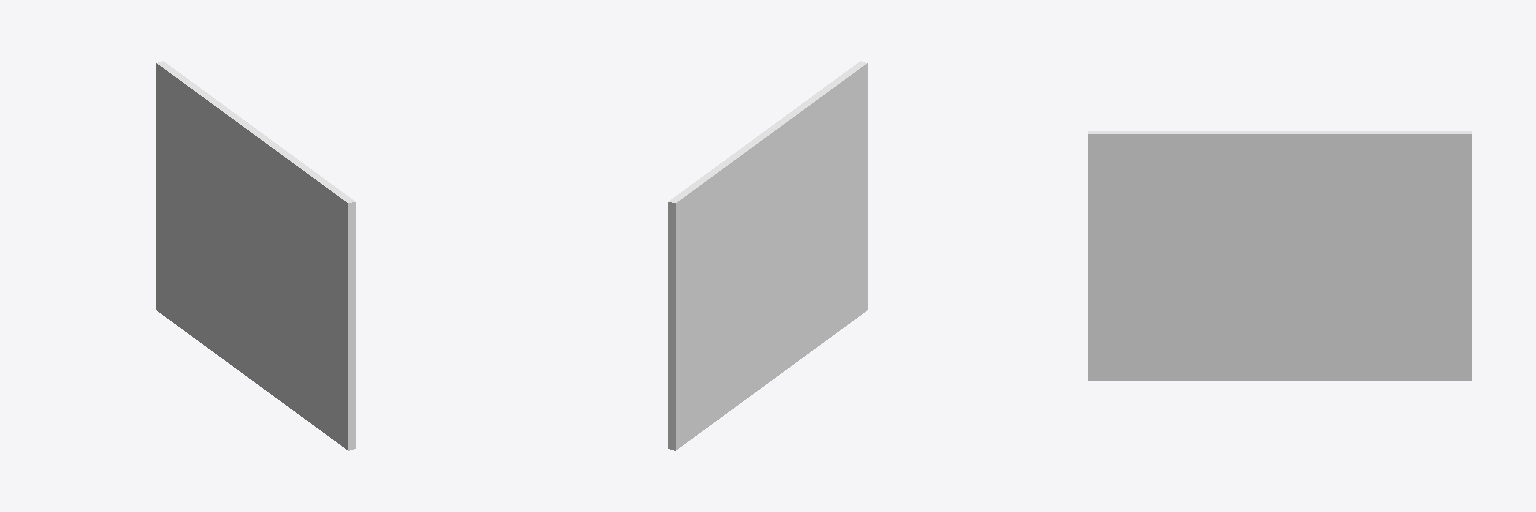
File: WallStripedBottom.obj
The picture shows the model from 3 angles: view 1: azimuth 30°, elevation 25°; view 2: azimuth 150°, elevation 25°; view 3: azimuth 270°, elevation 25°; orthographic projection.
Size of the model in its own units: 1 by 32 by 45.